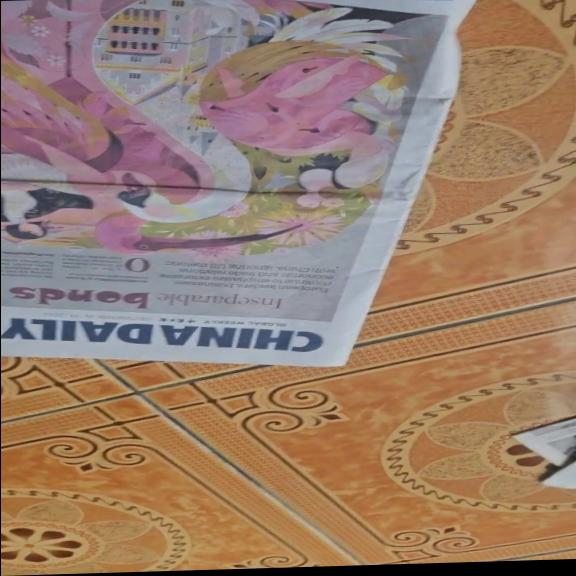Kertas: (0, 0, 339, 355)
